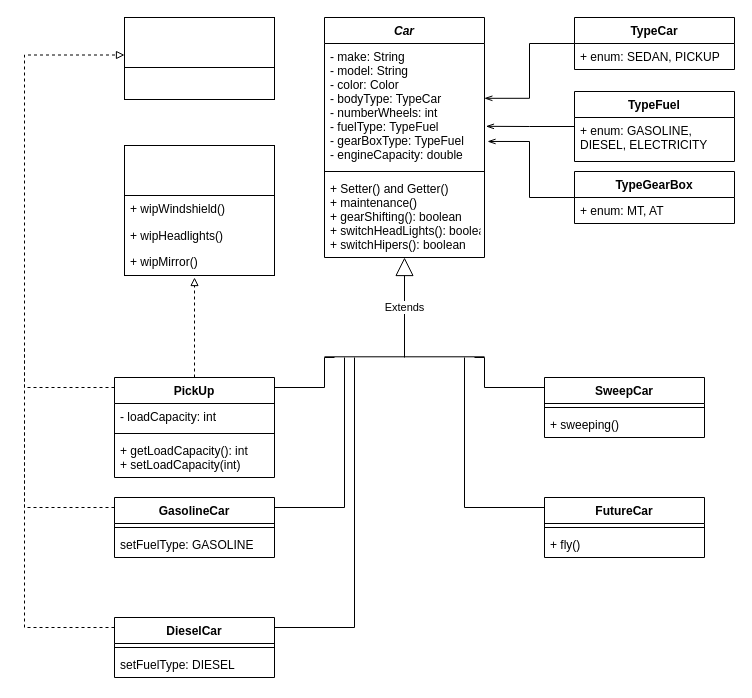
Some shapes in this 752 by 698 pixel diagram are drawn without their labels. The centre of each missing label's shape, as x and y in pixels:
+ fuel(): the point at 199,83
«interface» iRefueling: the point at 199,42
«interface» iWipe: the point at 199,170
